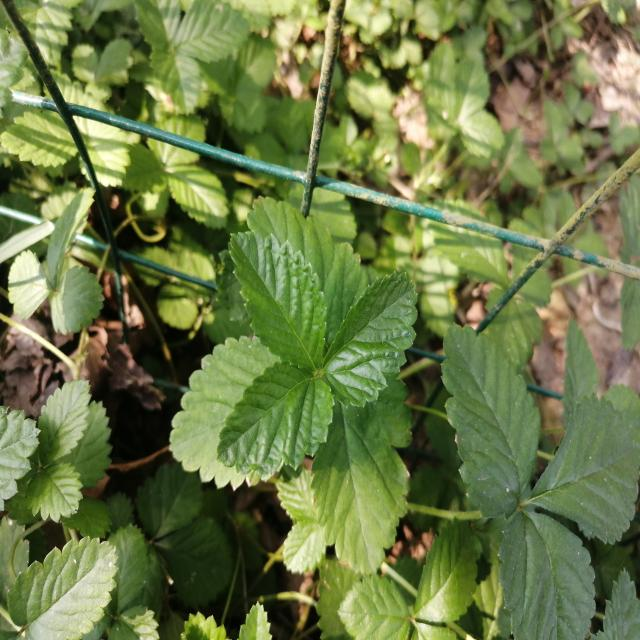Mock_strawberry: (199, 225, 397, 470)
